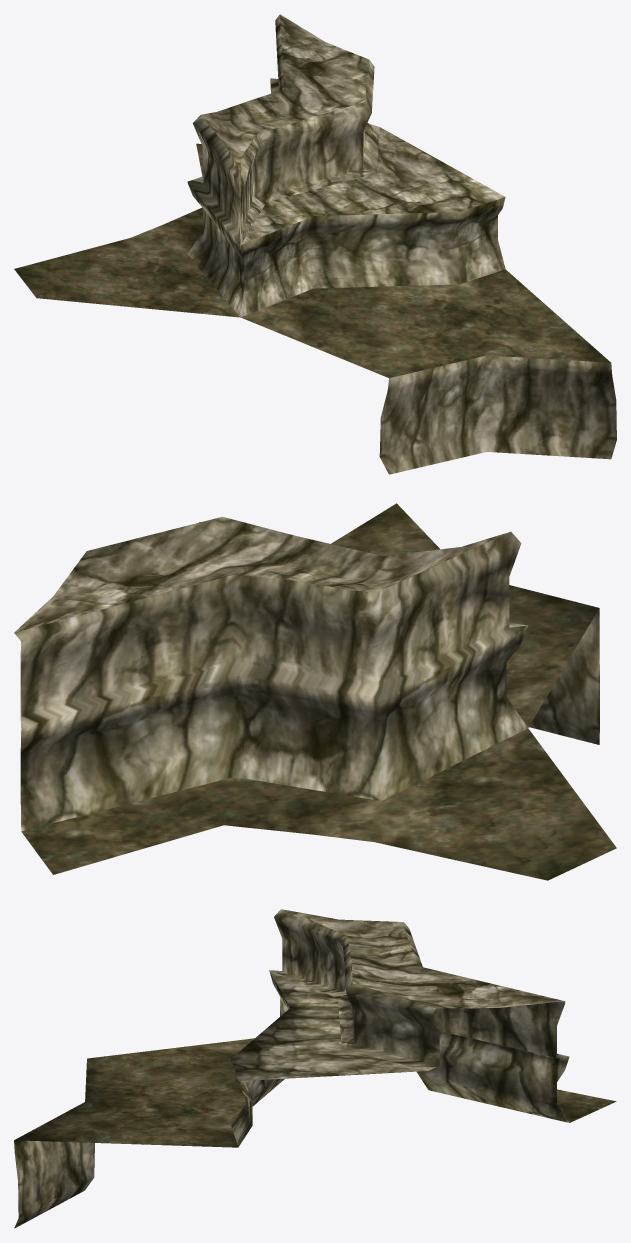
The model's file is CB_NEWPLAYSURFACE_CB_PLAYSURFACE26.fbx.
3 renders of one model, top to bottom at view 1: azimuth 30°, elevation 25°; view 2: azimuth 150°, elevation 25°; view 3: azimuth 270°, elevation 25°, orthographic. The views are drawn at different scales.
Visible parts, largest first — view 1: CB_NEWPLAYSURFACE_CB_PLAYSURFACE26; view 2: CB_NEWPLAYSURFACE_CB_PLAYSURFACE26; view 3: CB_NEWPLAYSURFACE_CB_PLAYSURFACE26.
Part boxes in pixels (x1,y1,x2,y2): CB_NEWPLAYSURFACE_CB_PLAYSURFACE26: [14, 14, 616, 474]; CB_NEWPLAYSURFACE_CB_PLAYSURFACE26: [14, 503, 616, 880]; CB_NEWPLAYSURFACE_CB_PLAYSURFACE26: [14, 909, 616, 1228].
Bounding box in the file's own units: 165470 × 98700 × 246743.
Materials: 3 (3 with a texture image).
